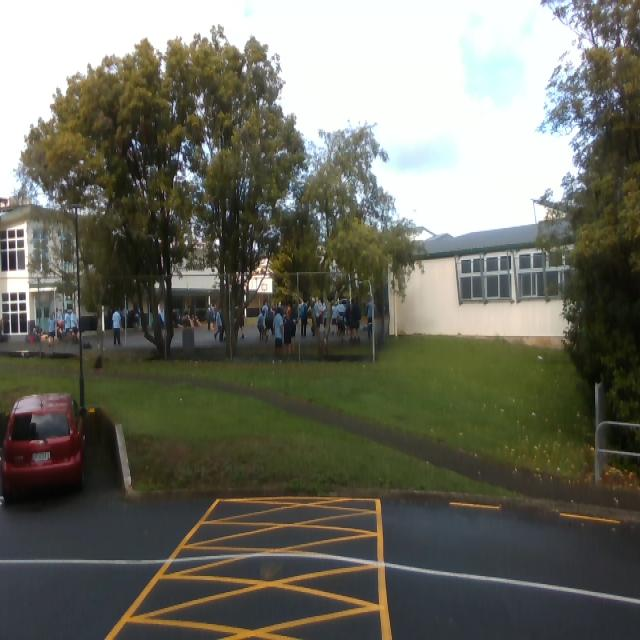Rimu: (529, 0, 640, 407), (57, 77, 195, 348), (178, 41, 275, 346), (289, 148, 402, 304)
